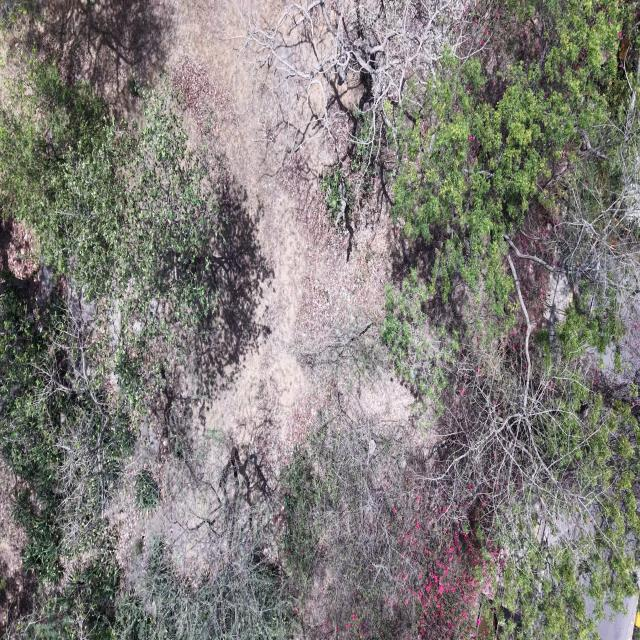DRY_AREA: (25, 0, 422, 573)
VEGETATION_TREE: (0, 0, 639, 639), (0, 62, 219, 637), (0, 63, 220, 335), (283, 414, 499, 638)
